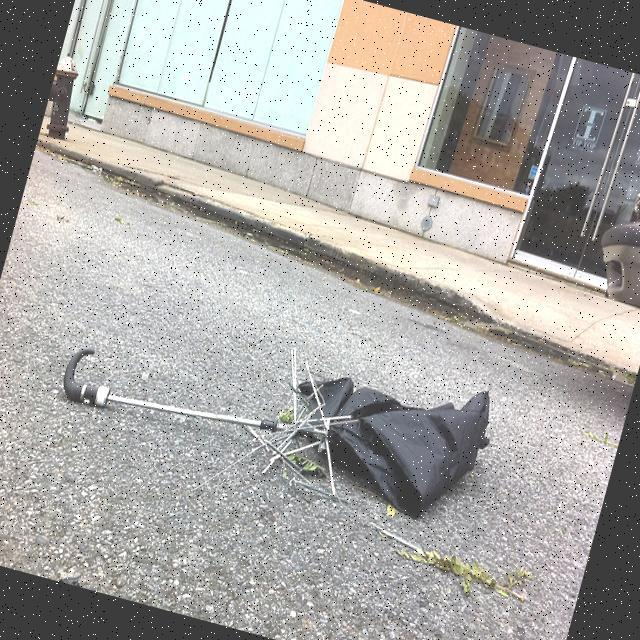fire_hydrant: (39, 49, 89, 140)
